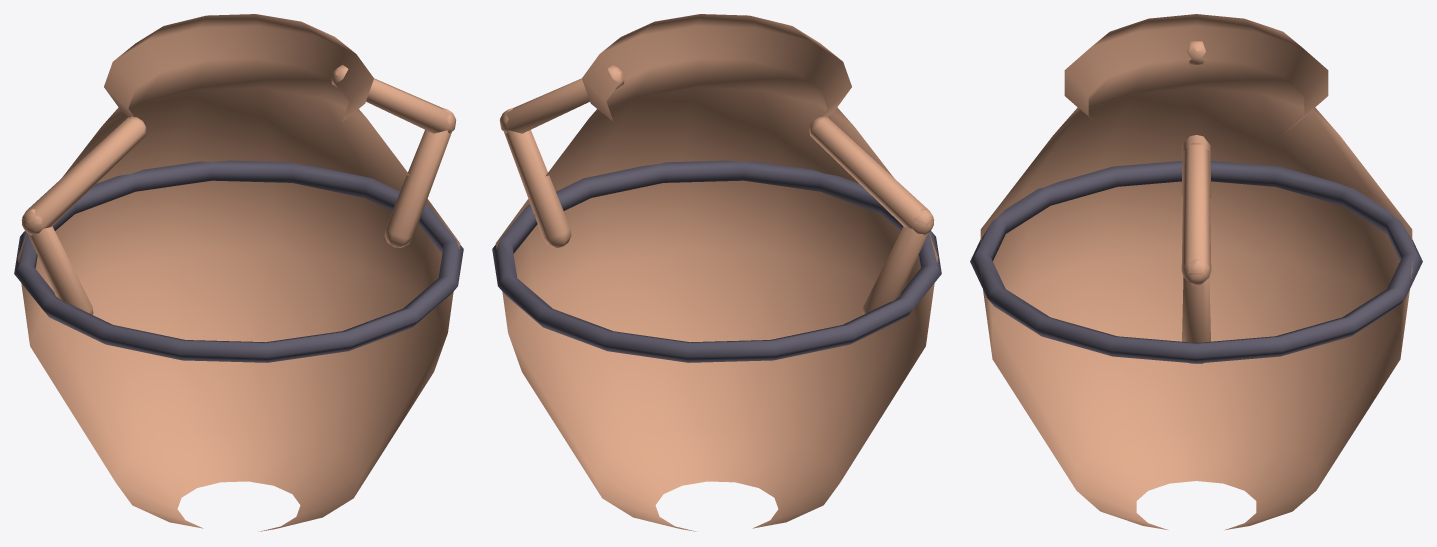
File: mythic-underworld-and-olympus-amphora-squat-b70de72f__21421.glb
The picture shows the model from 3 angles, left to right: view 1: azimuth 30°, elevation 25°; view 2: azimuth 150°, elevation 25°; view 3: azimuth 270°, elevation 25°; orthographic projection.
Parts seen in each view (by area): view 1: amphora-squat; view 2: amphora-squat; view 3: amphora-squat.
Part boxes in pixels (left/top/right/bottom): amphora-squat: left=14, top=14, right=463, bottom=531; amphora-squat: left=492, top=14, right=941, bottom=531; amphora-squat: left=970, top=14, right=1422, bottom=530.
Bounding box in the file's own units: 0.8061 × 0.8 × 0.736.
